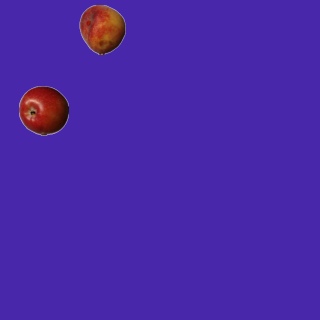Apple Braeburn: (18, 85, 68, 135)
Peach: (77, 4, 127, 54)
